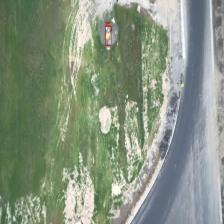fire: (105, 25, 111, 46)
